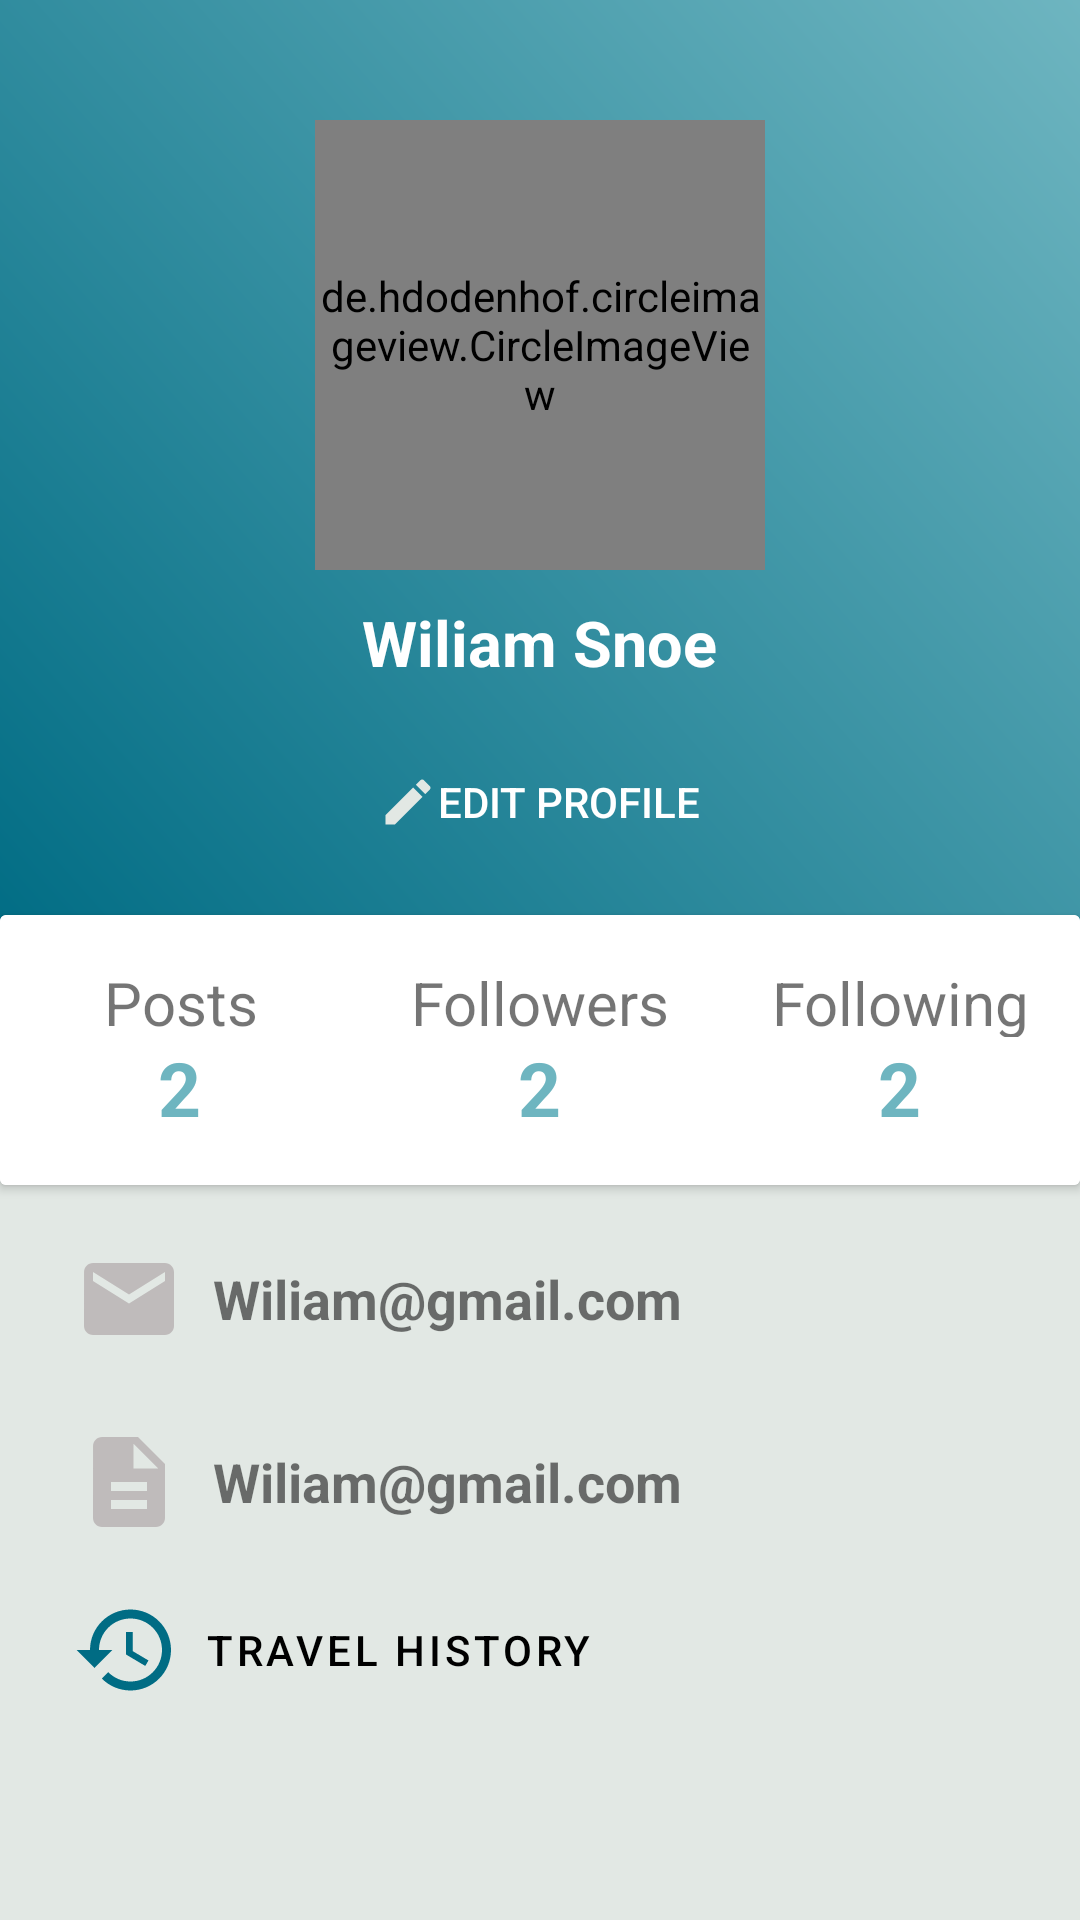

Named icons in this screenshot (1080 × 1920) and their bounding boxes, (x1, y1, x2, y2):
description: (93, 1437, 165, 1527)
email: (84, 1263, 174, 1335)
